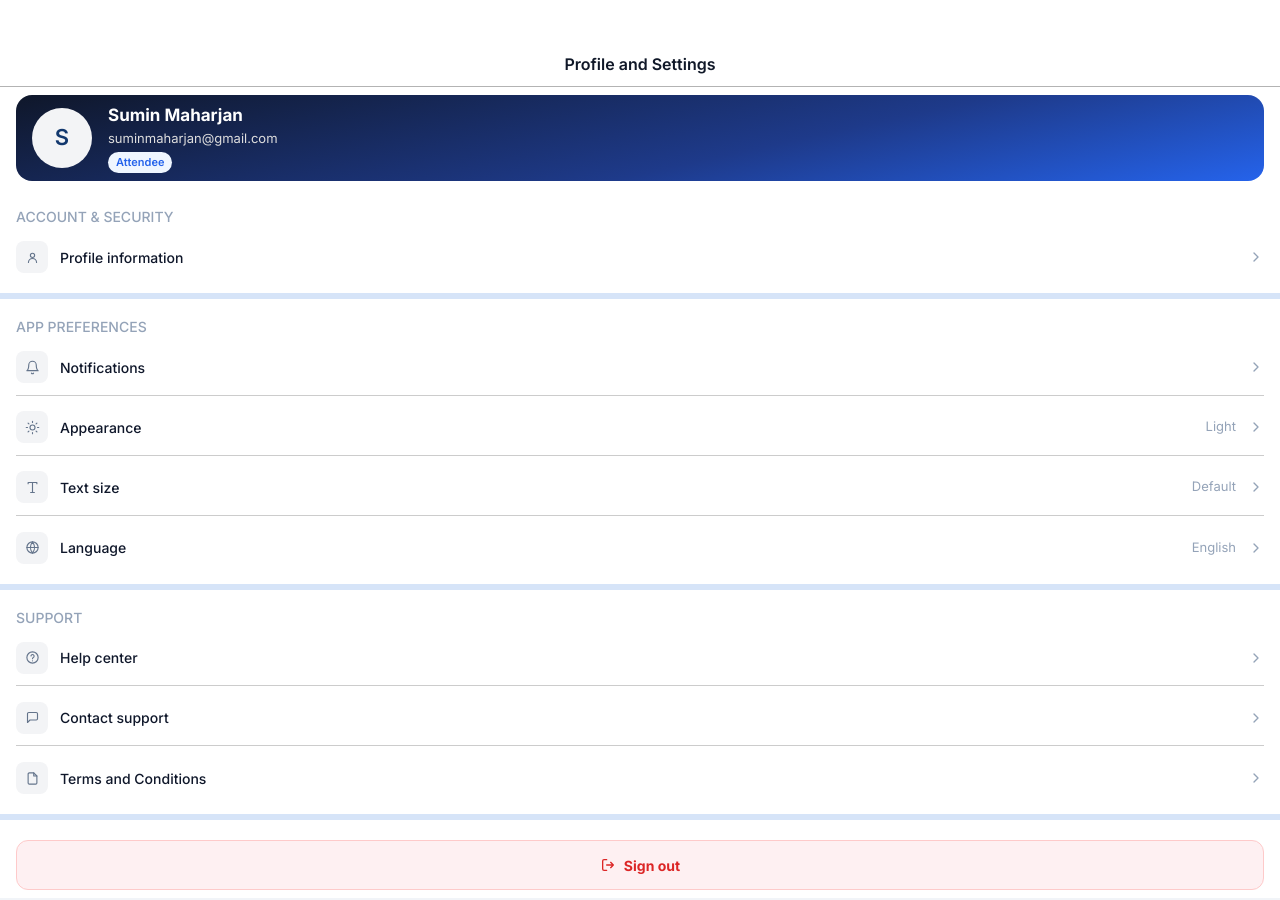
the notification switches › keeps the email ones apart from the push ones
Step 1. Click the button "Notifications" → click(32, 367), box [16,340,1264,396]
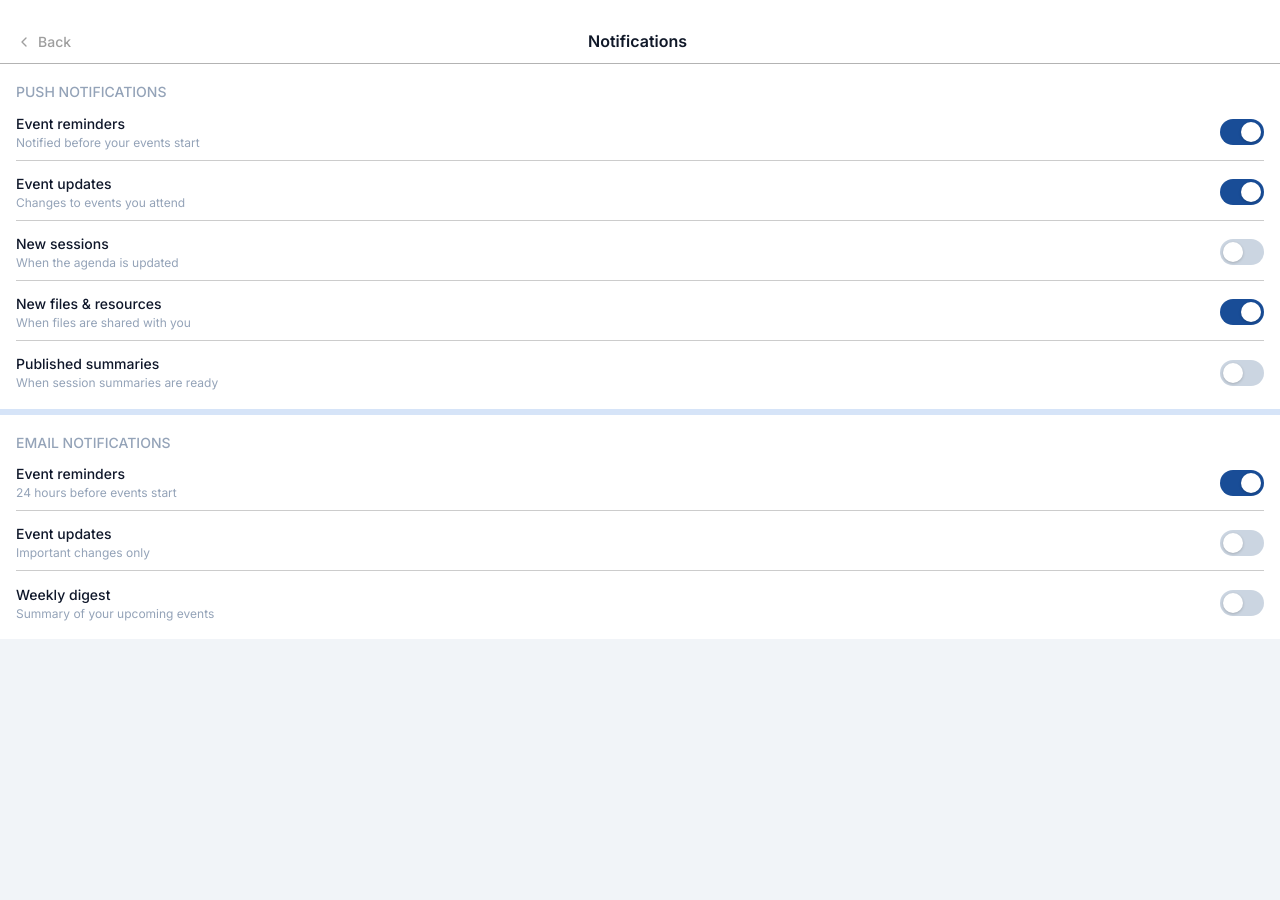
expect the switch named "New sessions" is shown: met, box [1220,239,1264,265]
expect the text "When the agenda is updated" is shown: met, box [16,254,179,270]
expect the text "Weekly digest" is shown: met, box [16,586,110,602]
